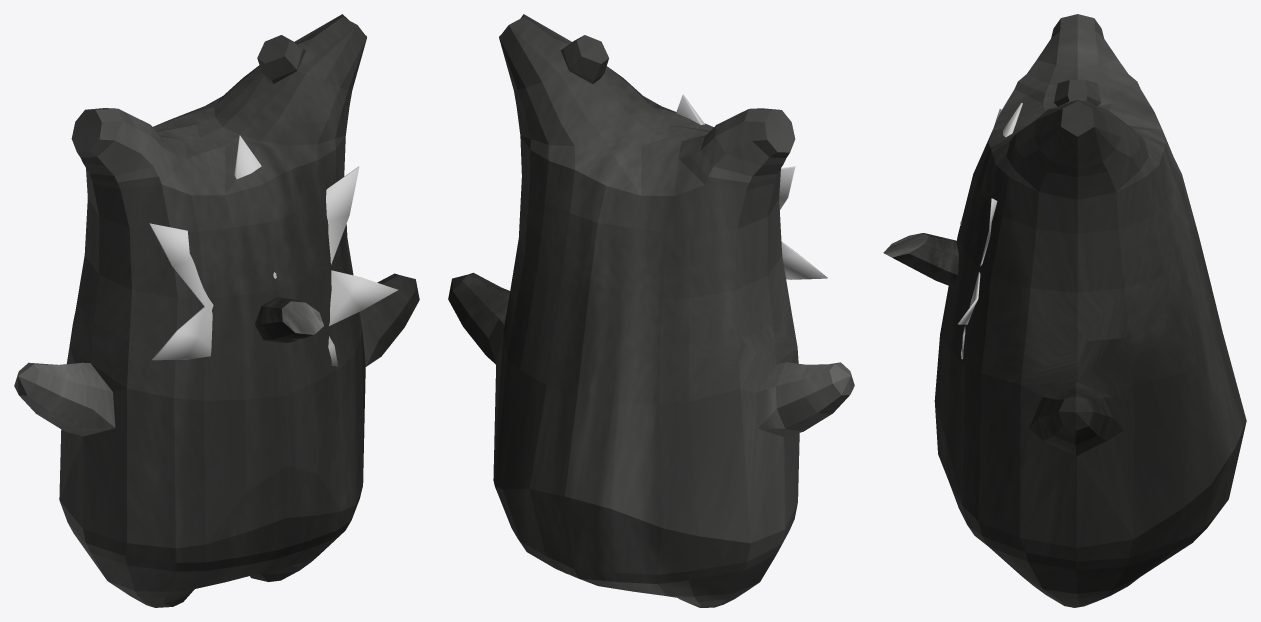
The model's file is frame_0071.obj.
The picture shows the model from 3 angles, left to right: view 1: azimuth 30°, elevation 25°; view 2: azimuth 150°, elevation 25°; view 3: azimuth 270°, elevation 25°; orthographic projection.
Visible parts, largest first — view 1: korok, leaf, nose.003_柱体.011; view 2: korok, leaf; view 3: korok, nose.003_柱体.011, leaf.
Part boxes in pixels (x1=…): korok: x1=14, y1=14, x2=419, y2=607; leaf: x1=149, y1=135, x2=397, y2=366; nose.003_柱体.011: x1=255, y1=297, x2=323, y2=343; korok: x1=448, y1=14, x2=854, y2=607; leaf: x1=676, y1=94, x2=827, y2=279; korok: x1=934, y1=14, x2=1246, y2=607; nose.003_柱体.011: x1=883, y1=233, x2=958, y2=287; leaf: x1=958, y1=103, x2=1022, y2=359.
Size of the model in its own units: 1.7 by 2.23 by 1.36.
